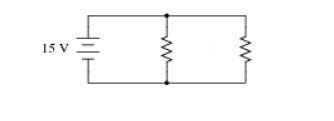resistor: (231, 28, 253, 67), (157, 30, 177, 64)
